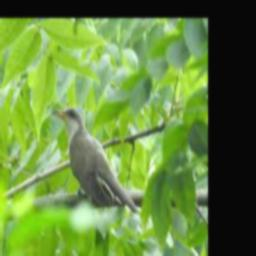Cuckoo: (52, 107, 138, 213)
